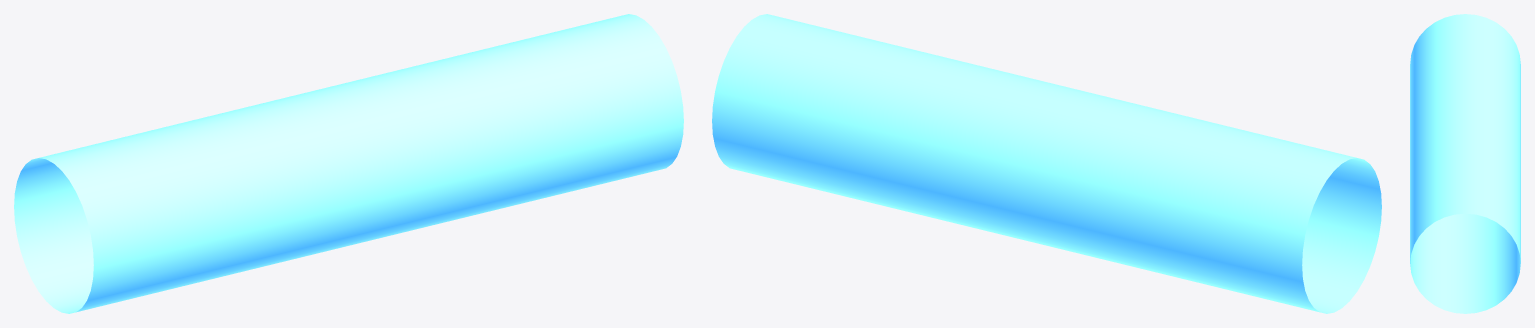
Rendered from tractor_beam.glb.
The picture shows the model from 3 angles, left to right: view 1: azimuth 30°, elevation 25°; view 2: azimuth 150°, elevation 25°; view 3: azimuth 270°, elevation 25°; orthographic projection. The views are drawn at different scales.
Visible parts, largest first — view 1: tractor_beam; view 2: tractor_beam; view 3: tractor_beam.
Boxes of the visible parts, bbox=[...] form: tractor_beam: bbox=[14, 14, 683, 313]; tractor_beam: bbox=[712, 14, 1381, 313]; tractor_beam: bbox=[1410, 14, 1520, 313].
Size of the model in its own units: 1 by 0.2343 by 0.2343.
